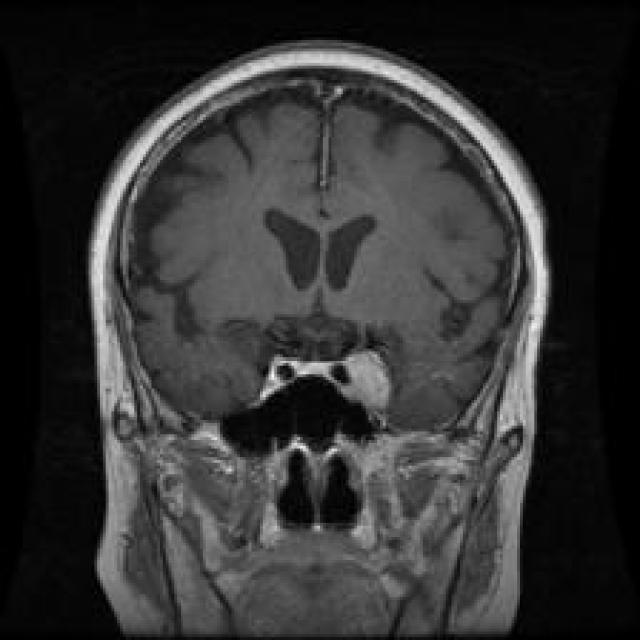meningioma_tumor: (307, 327, 416, 435)
